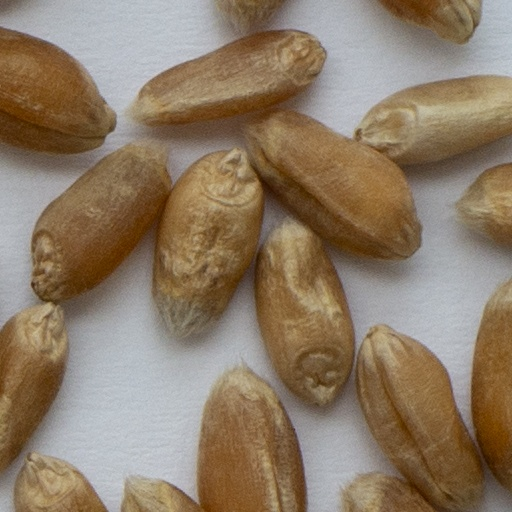Wheat-grain: (246, 113, 418, 260), (352, 325, 482, 511), (23, 145, 169, 298), (150, 147, 260, 341), (128, 32, 326, 126), (254, 216, 348, 408), (197, 364, 308, 511), (0, 20, 115, 159), (354, 76, 511, 166), (0, 303, 66, 466), (468, 278, 511, 497), (14, 453, 112, 511), (378, 0, 482, 46), (456, 164, 511, 249), (334, 468, 436, 511), (121, 472, 204, 511), (217, 0, 287, 39)
